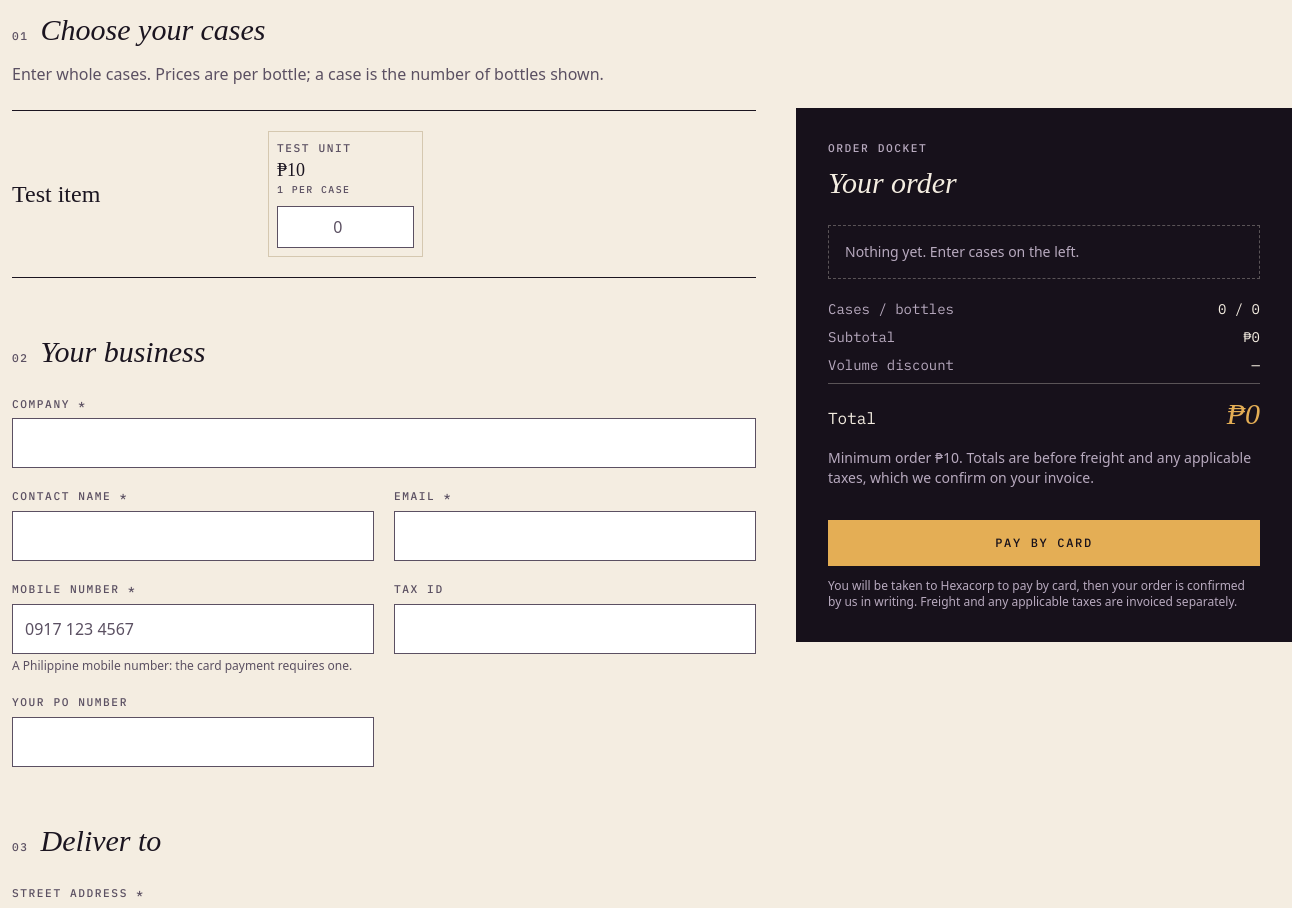
Test: OrderForm: test mode (flat PHP 10 test item) › shows no volume discount at any quantity, matching the server, and no "add more for X% off" nudge
The image size is (1292, 908).
In the number field named "Test item, Test unit, cases": (345, 227) left=277, top=206, right=414, bottom=248, type "70"
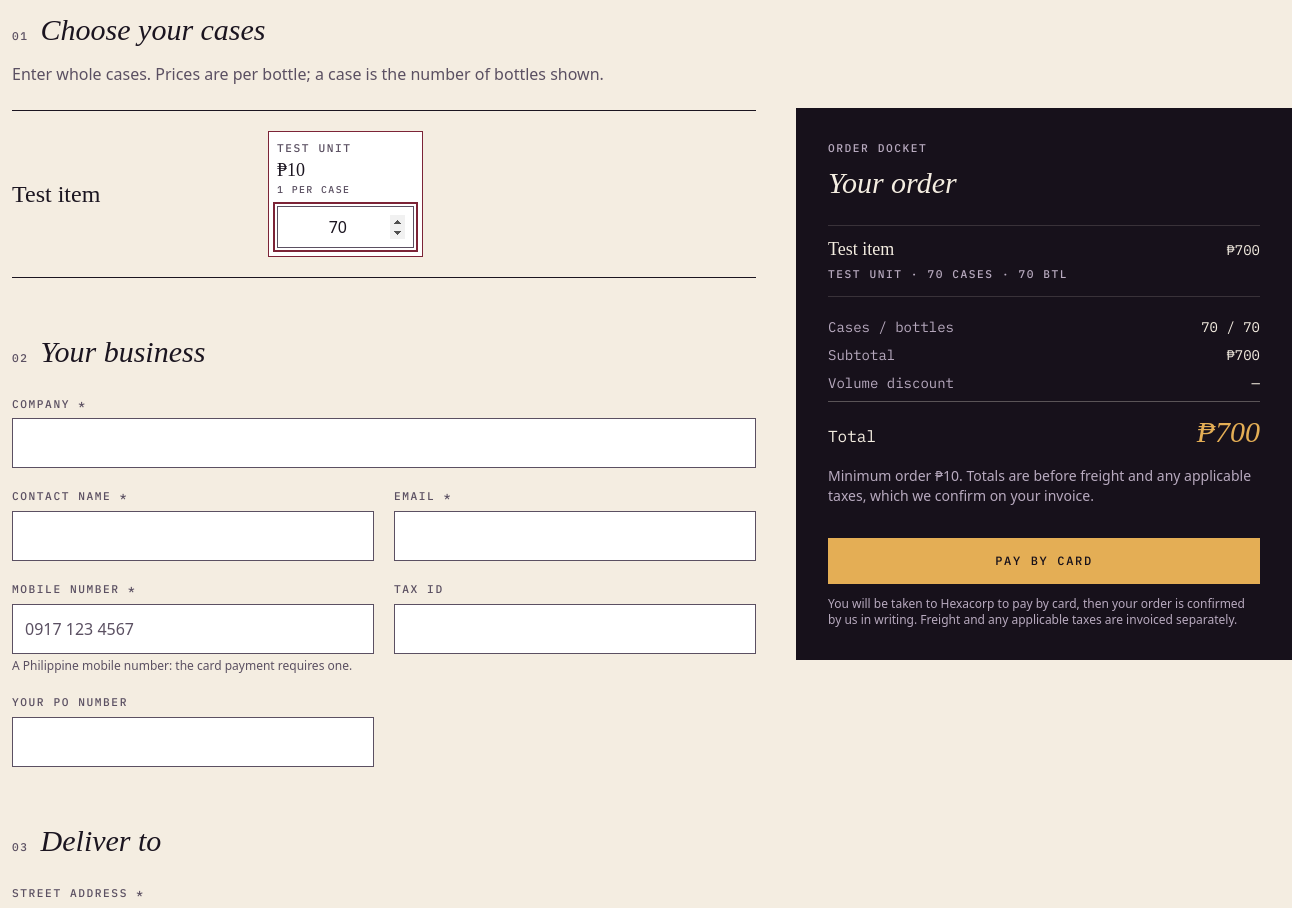
Expected: the element named "Order summary" shows "₱700", left=1226, top=241, right=1260, bottom=259
